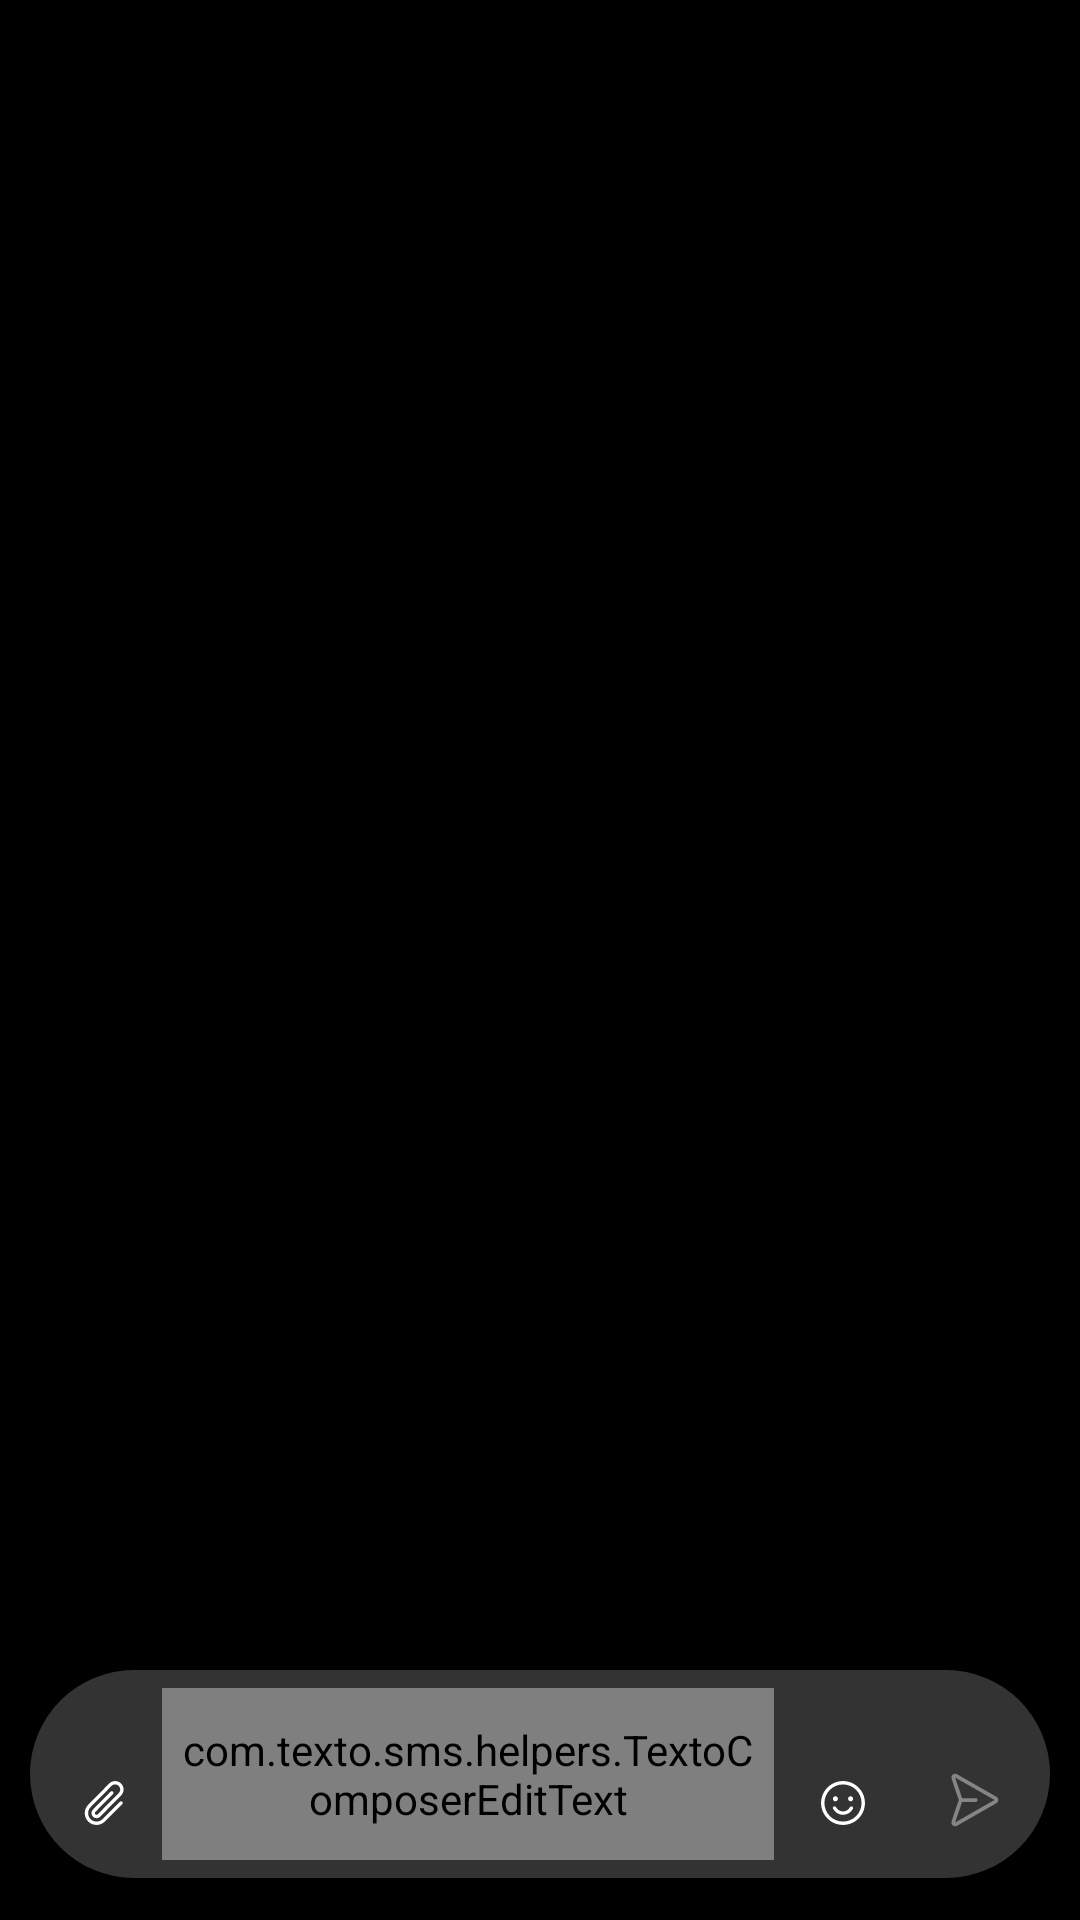

Icon bounding boxes for this 1080 × 1920 phone screenshot, format bbox=[x1, y1, x2, y2]:
Attachment: bbox=[84, 1781, 124, 1825]
Insert emoji: bbox=[821, 1781, 865, 1825]
